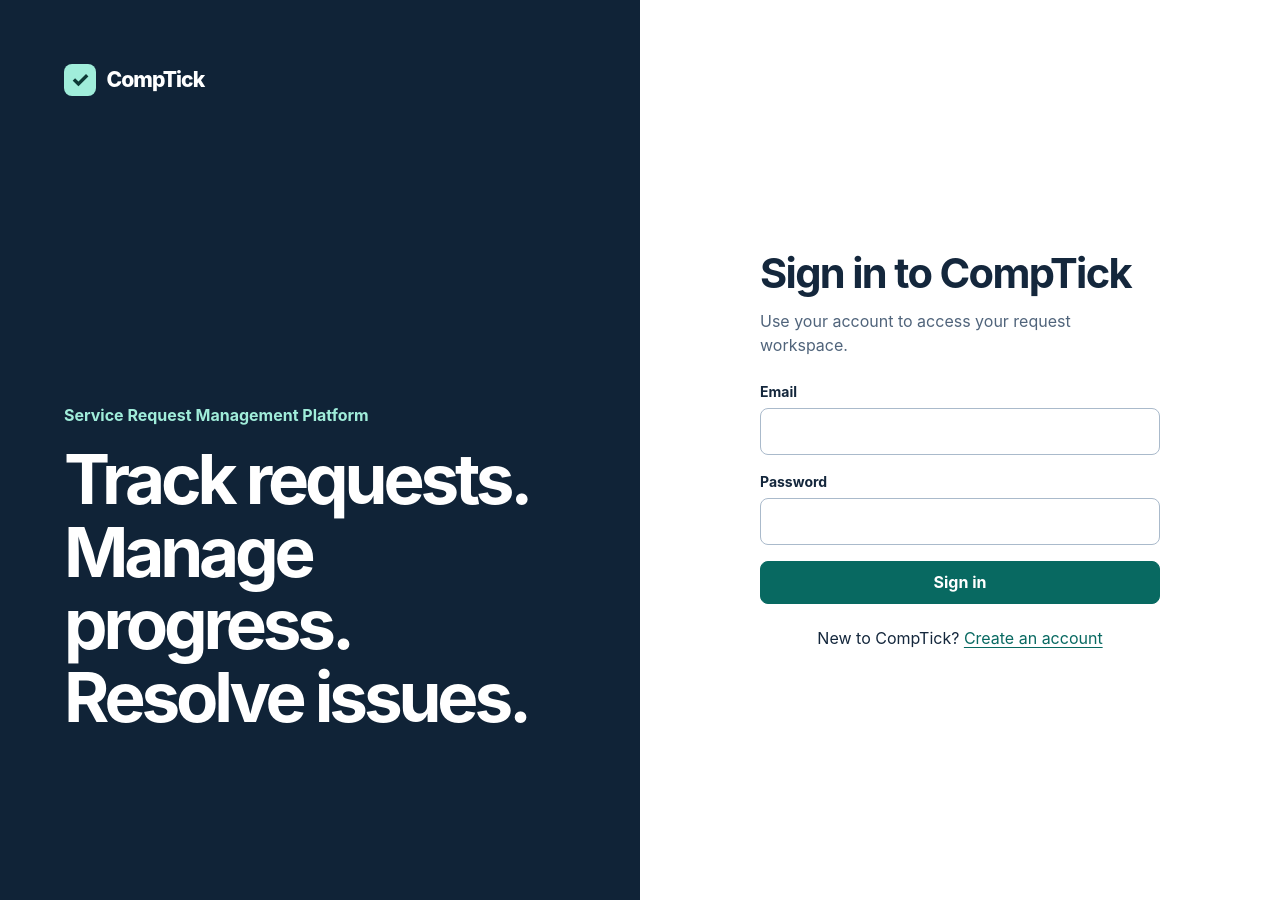
it: edits a request owned by the signed-in actor
The width and height of the screenshot is (1280, 900).
Type "member@example.com" into the field labelled "Email" at coordinates (960, 432), box x1=760 y1=408 x2=1160 y2=455
Type "testing-password" into the password field labelled "Password" at coordinates (960, 522), box x1=760 y1=498 x2=1160 y2=545
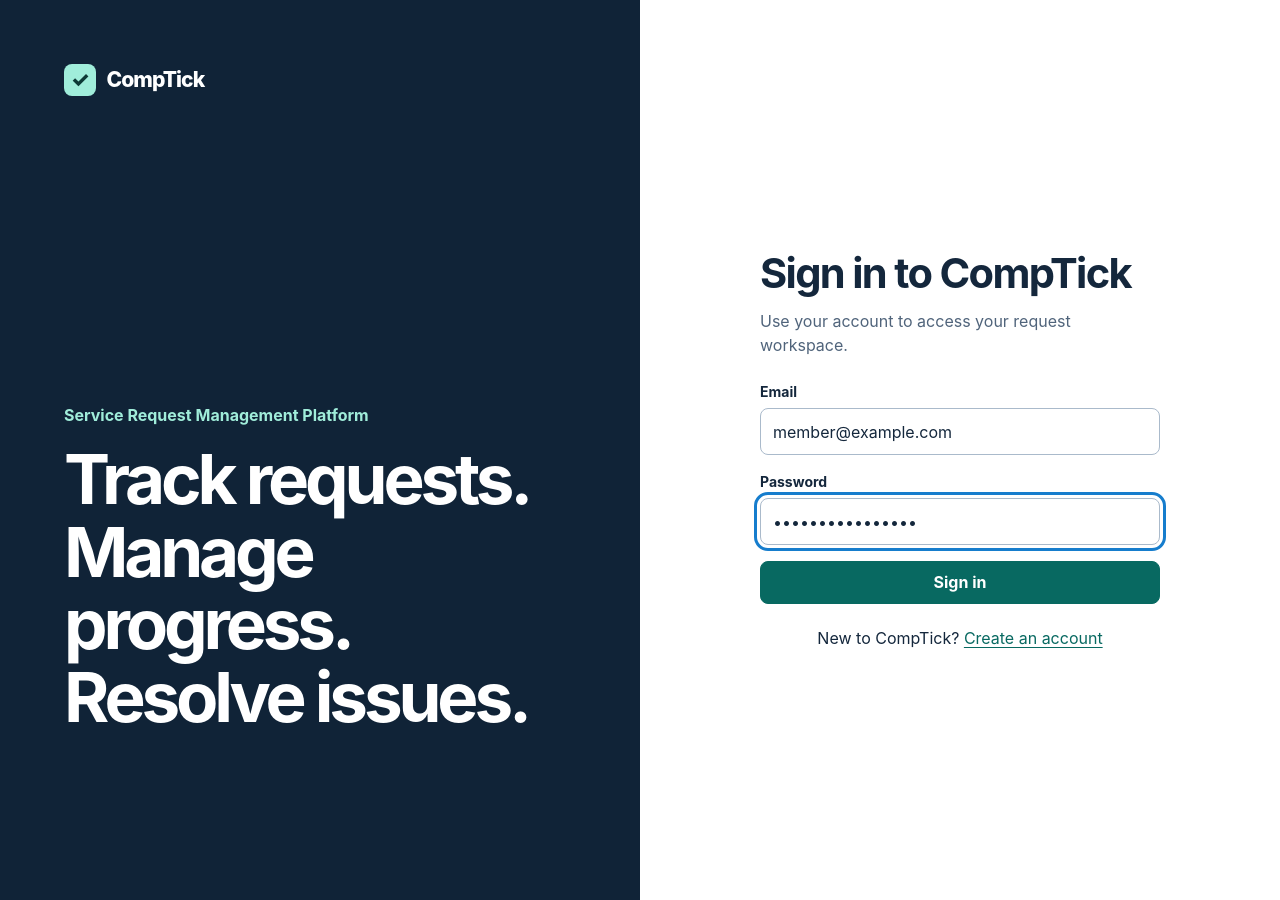
Click the button "Sign in" at coordinates (960, 582), box x1=760 y1=561 x2=1160 y2=604
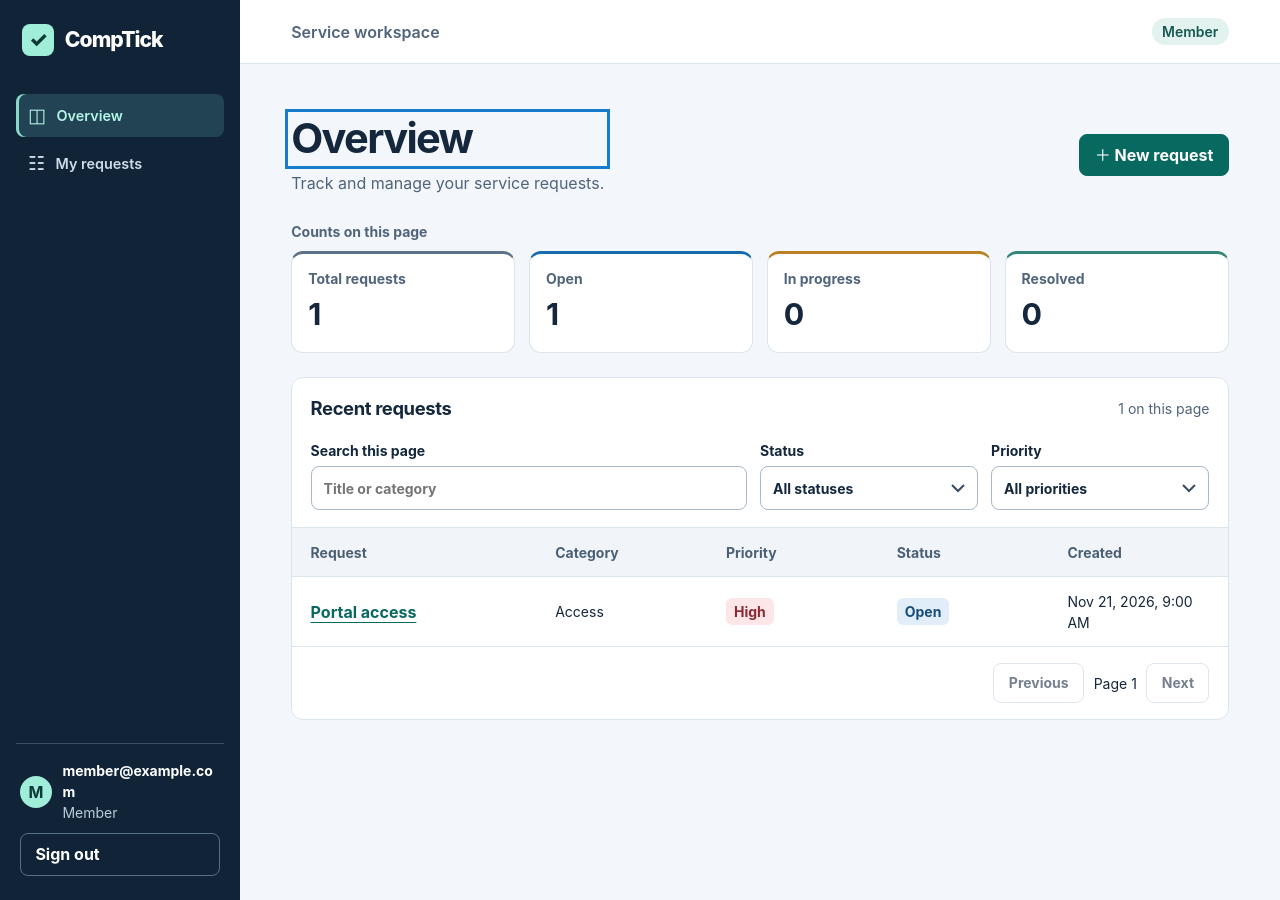
expect the heading "Overview" is shown: met, box x1=291 y1=113 x2=472 y2=163
Click the button "Portal access" at coordinates (364, 612), box x1=311 y1=600 x2=416 y2=624
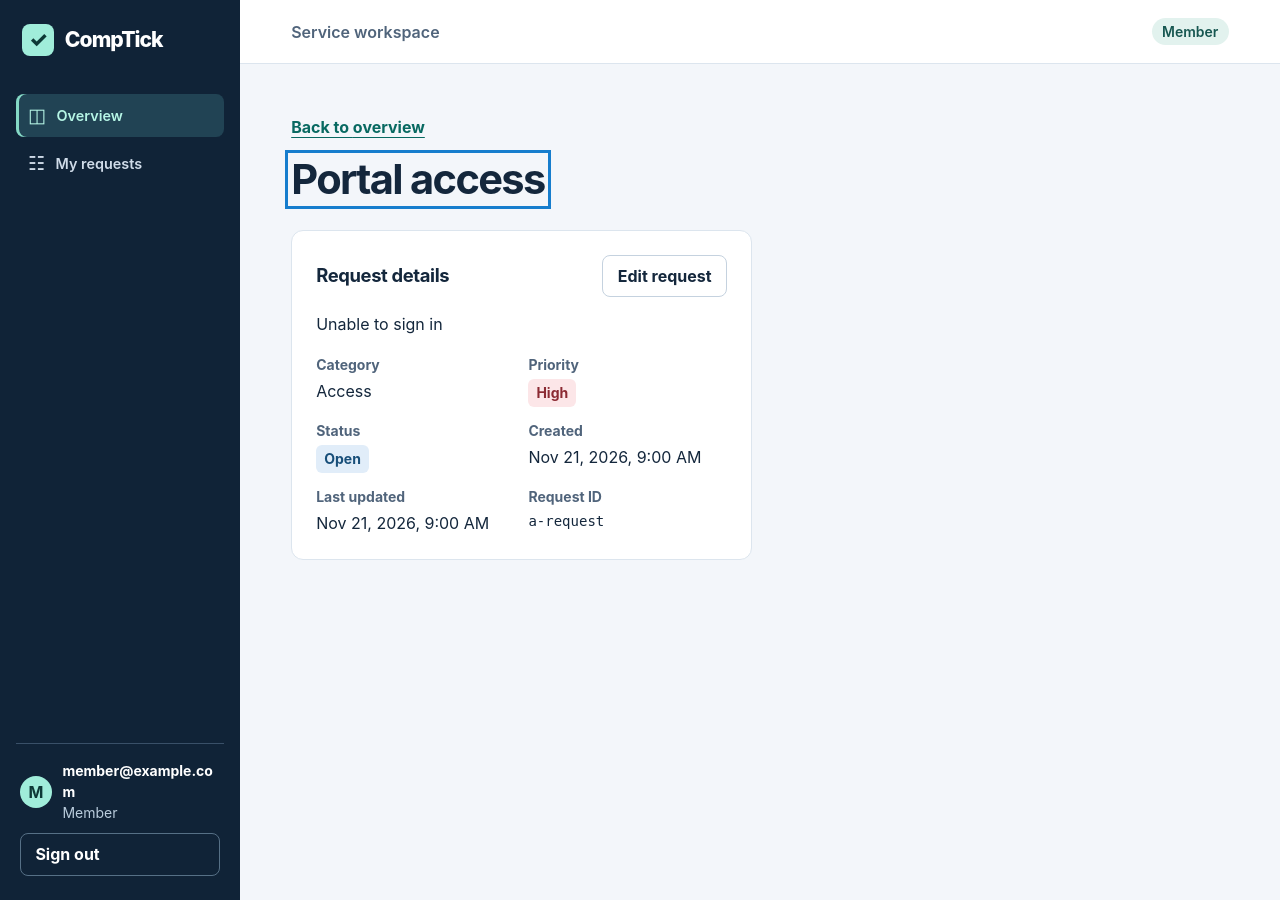
Click the button "Edit request" at coordinates (665, 276), box x1=602 y1=255 x2=727 y2=297
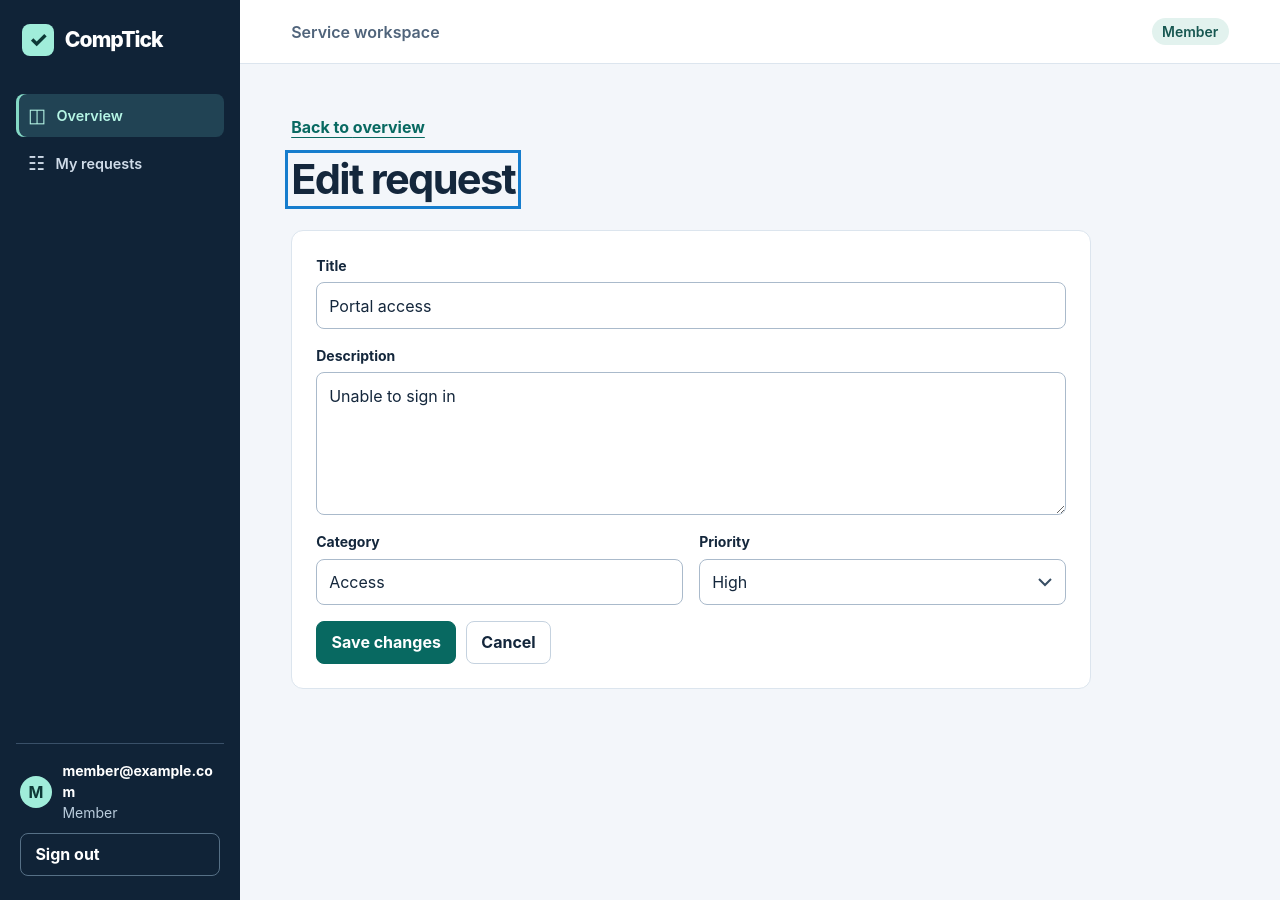
Replace the text in the field labelled "Title" with "Updated title" at coordinates (691, 306), box x1=316 y1=282 x2=1066 y2=329
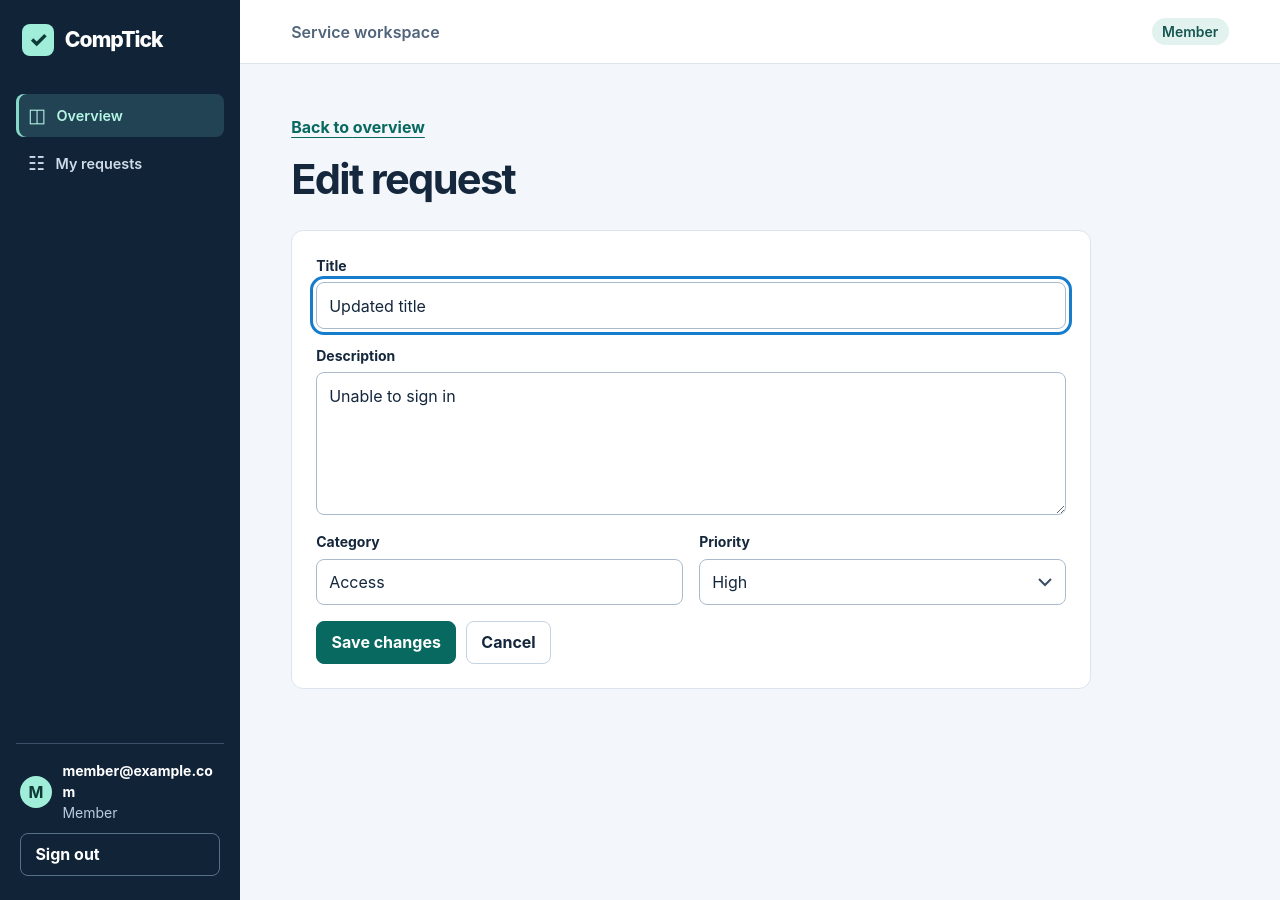
Click the button "Save changes" at coordinates (386, 643), box x1=316 y1=621 x2=456 y2=664
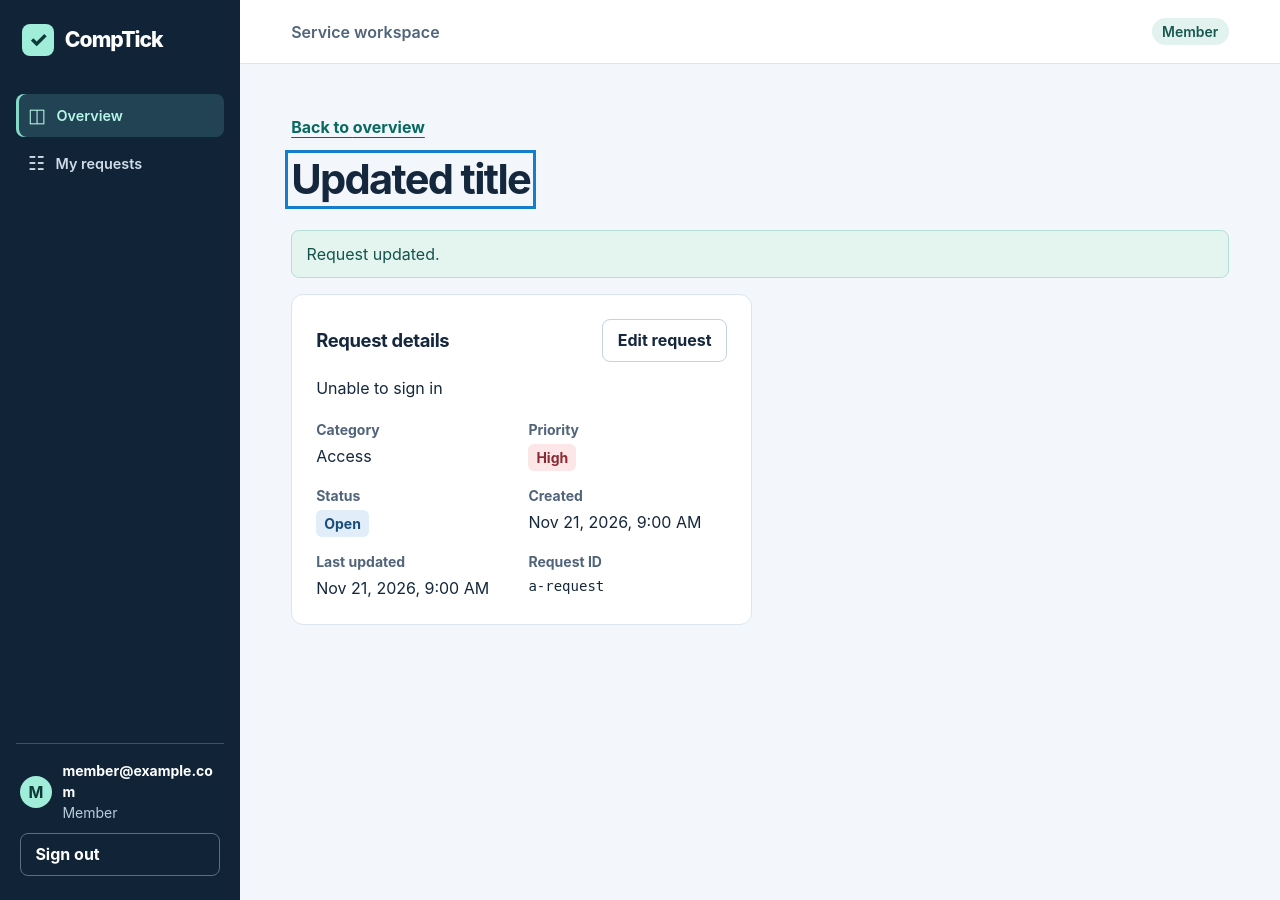
expect the heading "Updated title" is shown: met, box x1=291 y1=156 x2=530 y2=203
